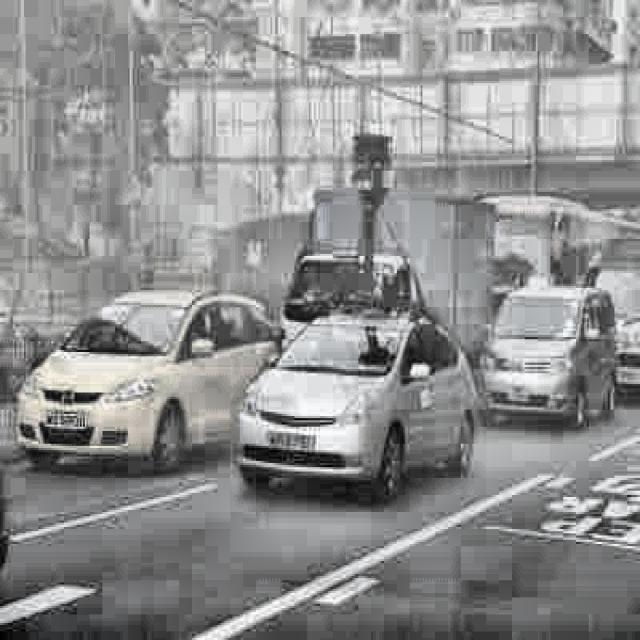license_plate: (42, 408, 86, 431), (266, 433, 316, 453), (508, 382, 531, 404)
